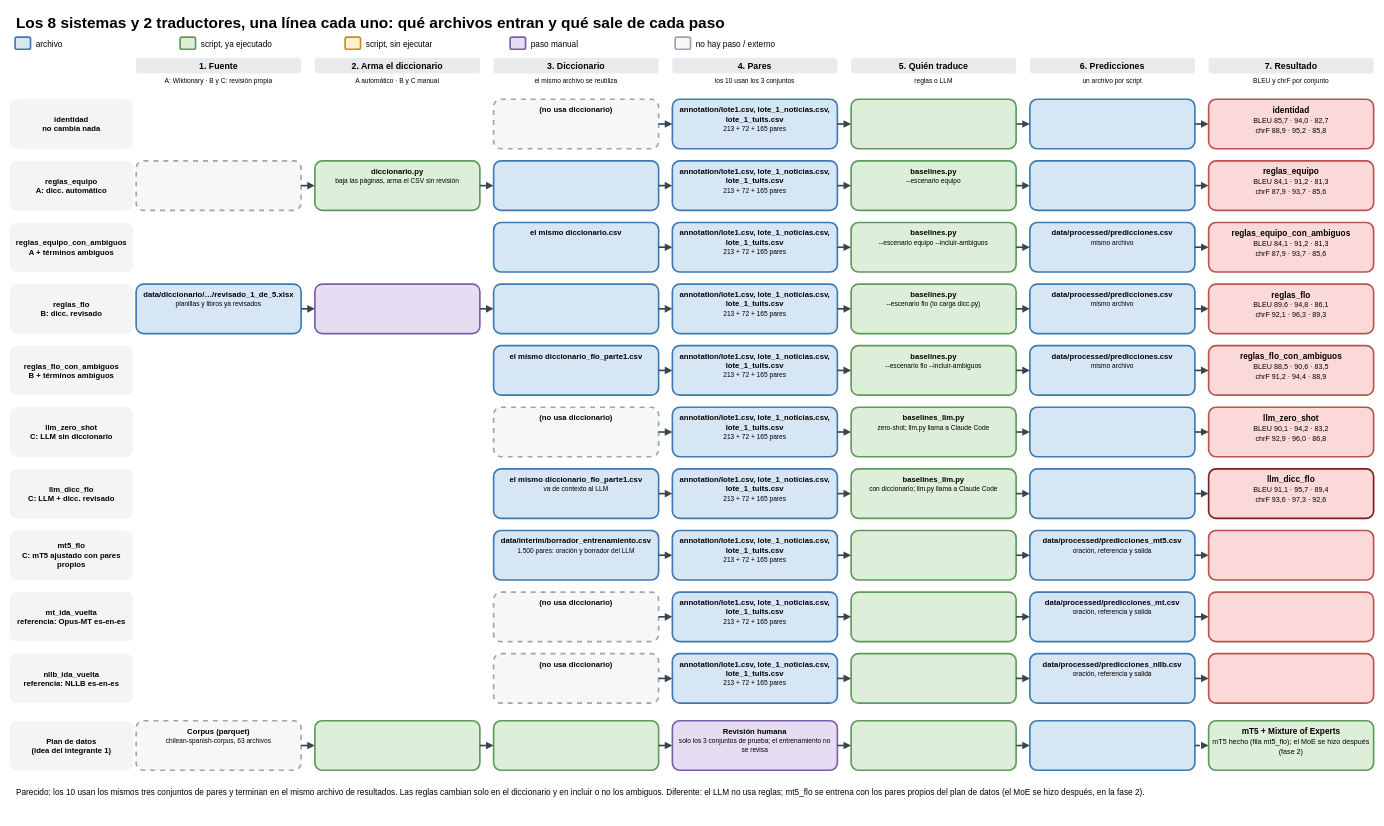
Image size: 1384x826. Some labels were removed from this diagram. The shapes that lost their labels are listed below. From the top down, each one's centre as x and y in pixels, then its label:
[933,123]: baselines.py copia la oración (identidad)
[1112,123]: data/processed/predicciones.csv oración, referencia y cada sistema
[218,185]: API de Wiktionary es.wiktionary y en.wiktionary (internet)
[576,185]: data/processed/diccionario.csv reemplazo = 1ª frase de la definición
[1112,185]: data/processed/predicciones.csv mismo archivo que arriba
[397,308]: Revisión manual El integrante 1 decide; Claude propone definiciones y reemplazos
[576,308]: data/curado/diccionario_flo_parte1.csv 443 filas: definición, reemplazo, ambiguo
[1112,431]: data/processed/predicciones_llm.csv cada sistema LLM
[1112,493]: data/processed/predicciones_llm.csv mismo archivo
[933,555]: entrenar_mt5.py ajusta mT5-small en la GPU y evalúa
[1291,555]: mt5_flo BLEU 81,0 · 91,6 · 80,4 chrF 87,1 · 94,1 · 84,6
[933,616]: baseline_mt.py Opus-MT es-en y en-es
[1291,616]: mt_ida_vuelta BLEU 44,5 · 50,0 · 33,9 chrF 65,1 · 68,8 · 54,6
[933,678]: baseline_nllb.py NLLB-200 es-en y en-es
[1291,678]: nllb_ida_vuelta BLEU 38,5 · 34,5 · 25,2 chrF 60,5 · 55,4 · 47,7
[397,745]: oraciones.py candidatas_entrenamiento.csv: 3.382 oraciones
[576,745]: borrador.py el LLM propone la versión neutra (se usan 1.500)
[933,745]: entrenar_mt5.py ajusta mT5-small con los pares (sin menciones ni emojis)
[1112,745]: models/mt5_flo modelo ajustado (no se sube a git)
